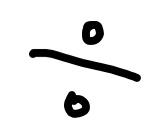div: (29, 19, 138, 114)
